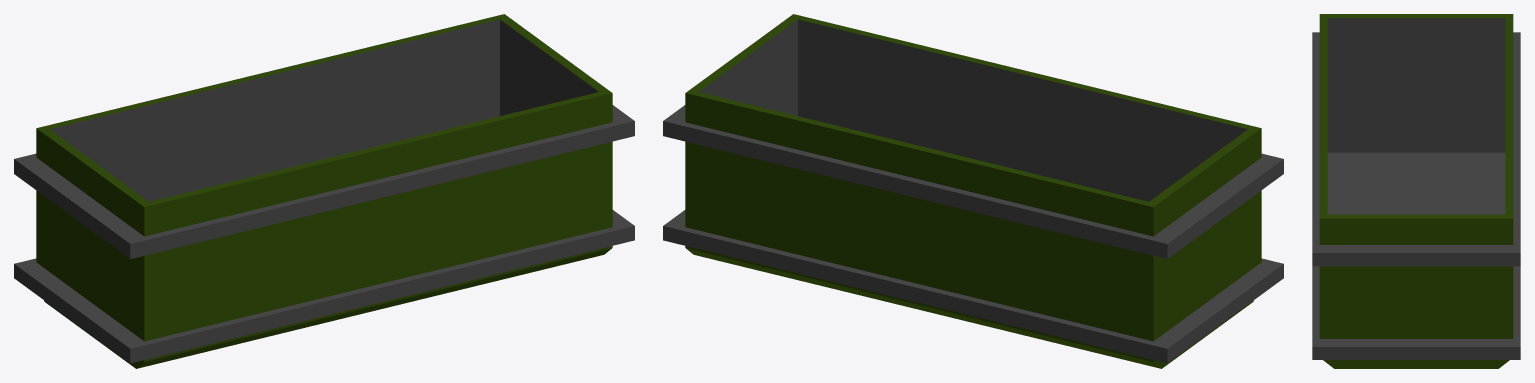
File: LargeDumpster.fbx
3 views of the same model, side by side, from view 1: azimuth 30°, elevation 25°; view 2: azimuth 150°, elevation 25°; view 3: azimuth 270°, elevation 25° (orthographic). The views are drawn at different scales.
Visible parts, largest first — view 1: big dumpster; view 2: big dumpster; view 3: big dumpster.
Part boxes in pixels (<box>): big dumpster: <box>14,14,634,368</box>; big dumpster: <box>663,14,1283,368</box>; big dumpster: <box>1312,14,1520,368</box>.
Size of the model in its own units: 2866 by 911 by 1145.
